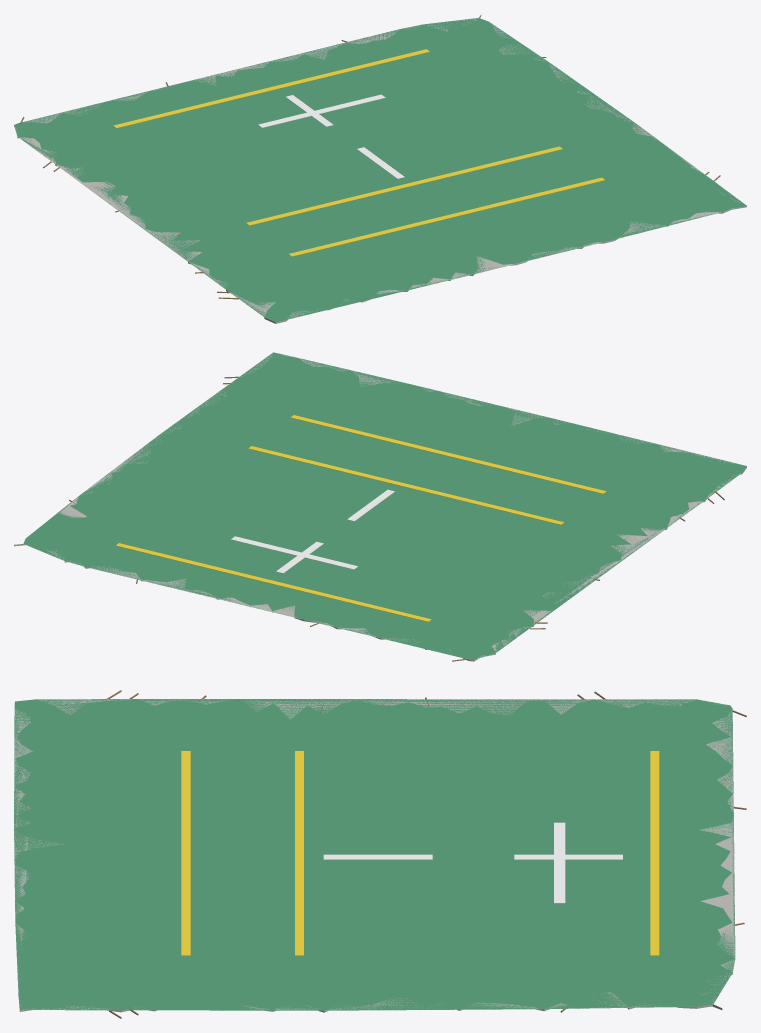
Rendered from bari_floor_island.fbx.
The picture shows the model from 3 angles, top to bottom: view 1: azimuth 30°, elevation 25°; view 2: azimuth 150°, elevation 25°; view 3: azimuth 270°, elevation 25°; orthographic projection. The views are drawn at different scales.
Parts seen in each view (by area): view 1: Fac_Floor, Fac_FloorLines, Fac_HazardTape; view 2: Fac_Floor, Fac_FloorLines, Fac_HazardTape; view 3: Fac_Floor, Fac_FloorLines, Fac_HazardTape.
Part boxes in pixels (left/top/right/bottom): Fac_Floor: left=14, top=14, right=746, bottom=323; Fac_FloorLines: left=113, top=49, right=604, bottom=256; Fac_HazardTape: left=258, top=94, right=404, bottom=178; Fac_Floor: left=14, top=352, right=746, bottom=661; Fac_FloorLines: left=115, top=415, right=606, bottom=621; Fac_HazardTape: left=231, top=489, right=394, bottom=573; Fac_Floor: left=14, top=699, right=735, bottom=1012; Fac_FloorLines: left=181, top=751, right=659, bottom=955; Fac_HazardTape: left=323, top=822, right=622, bottom=903.
Size of the model in its own units: 5.12 by 0.027 by 4.85.
